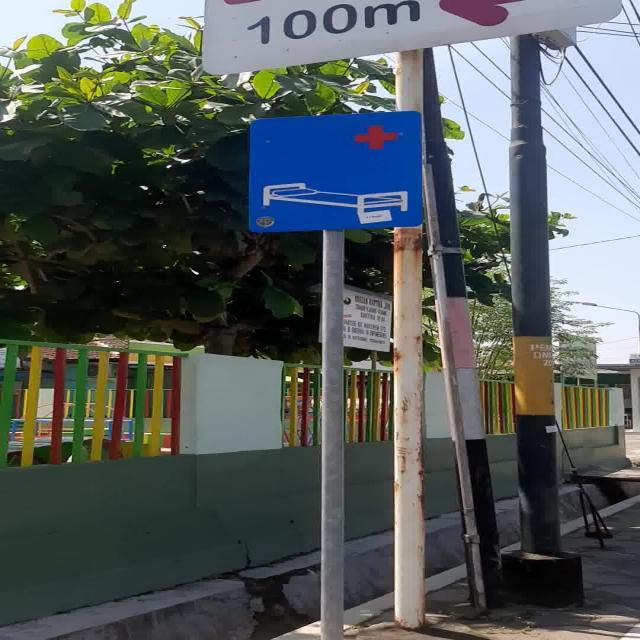Rumah Sakit: (248, 111, 423, 232)
